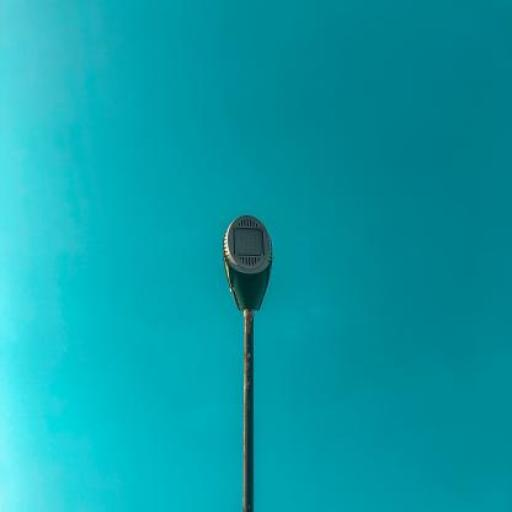street light: (220, 213, 275, 511)
